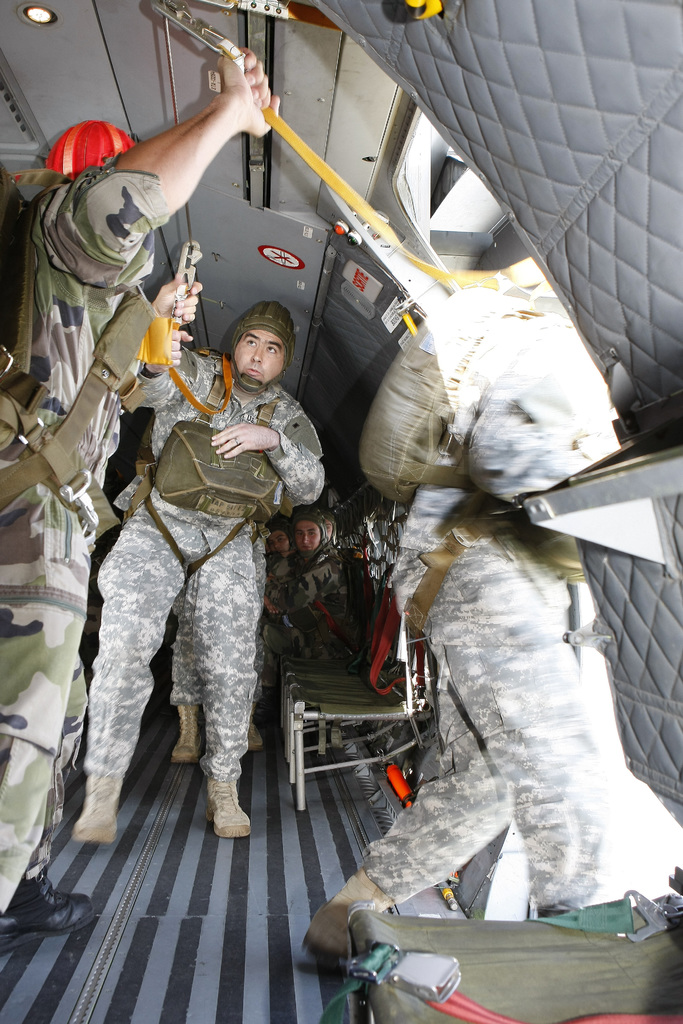Person: (0, 45, 642, 955)
